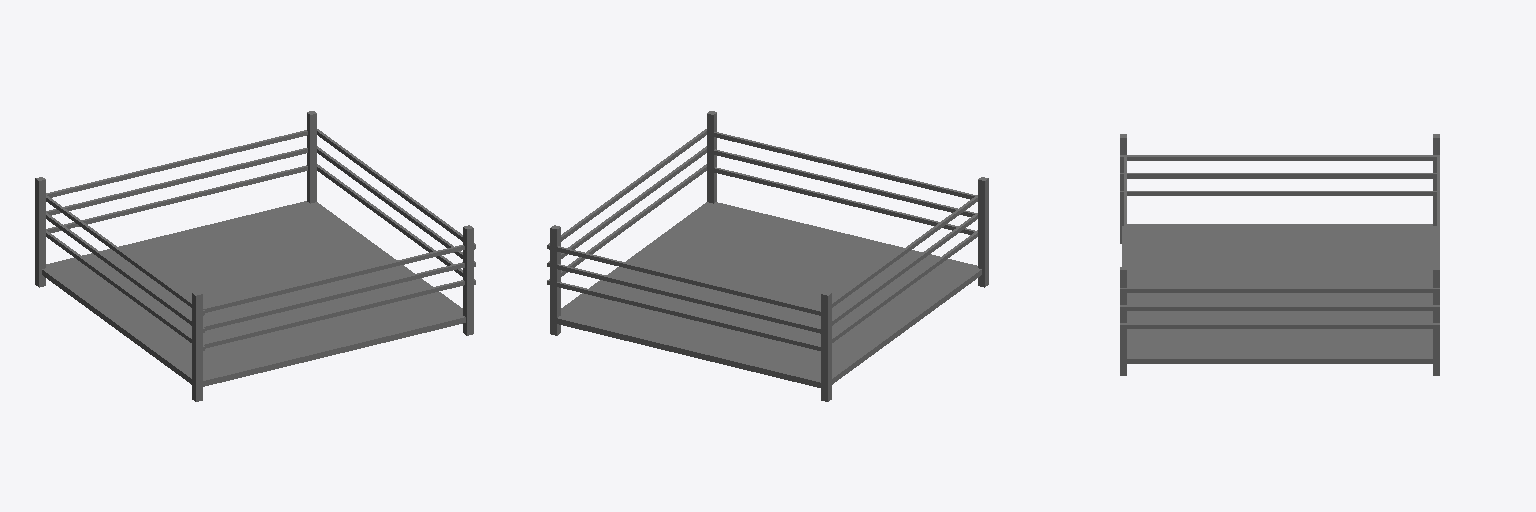
The model's file is ring_texturizado.obj.
The picture shows the model from 3 angles: view 1: azimuth 30°, elevation 25°; view 2: azimuth 150°, elevation 25°; view 3: azimuth 270°, elevation 25°; orthographic projection.
Visible parts, largest first — view 1: default, Cuerda004, Cuerda006, Cuerda005, Cuerda003, Cuerda002, Cuerda001, Poste1, Poste003, Poste2, Cuerda008, Cuerda012 (+5 smaller); view 2: default, Cuerda002, Cuerda001, Cuerda003, Cuerda005, Cuerda006, Cuerda004, Poste1, Poste003, Poste004, Cuerda008, Cuerda012 (+5 smaller); view 3: default, Cuerda007, Cuerda009, Cuerda011, Cuerda010, Cuerda008, Cuerda012, Poste2, Poste004.
Boxes of the visible parts, x1,y1,x2,y2 form: default: [42, 201, 465, 386]; Cuerda004: [203, 280, 464, 348]; Cuerda006: [203, 262, 464, 330]; Cuerda005: [203, 245, 464, 312]; Cuerda003: [46, 130, 307, 197]; Cuerda002: [46, 148, 307, 215]; Cuerda001: [46, 165, 307, 232]; Poste1: [192, 291, 202, 401]; Poste003: [35, 177, 45, 287]; Poste2: [463, 225, 473, 335]; Cuerda008: [317, 129, 475, 249]; Cuerda012: [46, 230, 204, 350]; default: [550, 202, 981, 389]; Cuerda002: [550, 264, 827, 334]; Cuerda001: [550, 282, 827, 352]; Cuerda003: [557, 246, 826, 316]; Cuerda005: [709, 132, 983, 202]; Cuerda006: [707, 149, 983, 220]; Cuerda004: [707, 167, 983, 237]; Poste1: [978, 177, 988, 287]; Poste003: [821, 291, 831, 401]; Poste004: [550, 225, 560, 335]; Cuerda008: [547, 129, 706, 249]; Cuerda012: [819, 230, 977, 350]; default: [1122, 224, 1439, 363]; Cuerda007: [1120, 305, 1439, 310]; Cuerda009: [1120, 323, 1439, 328]; Cuerda011: [1120, 155, 1439, 160]; Cuerda010: [1120, 173, 1436, 178]; Cuerda008: [1120, 288, 1439, 292]; Cuerda012: [1120, 191, 1436, 195]; Poste2: [1120, 267, 1126, 375]; Poste004: [1433, 267, 1439, 375].
Bounding box in the file's own units: 82.84 × 30 × 82.